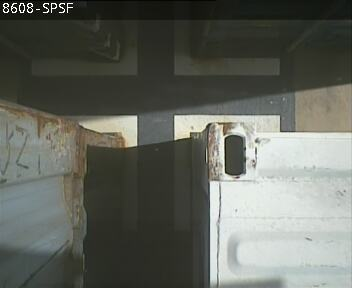groundmarker_1: (73, 114, 282, 235), (31, 1, 280, 74)
